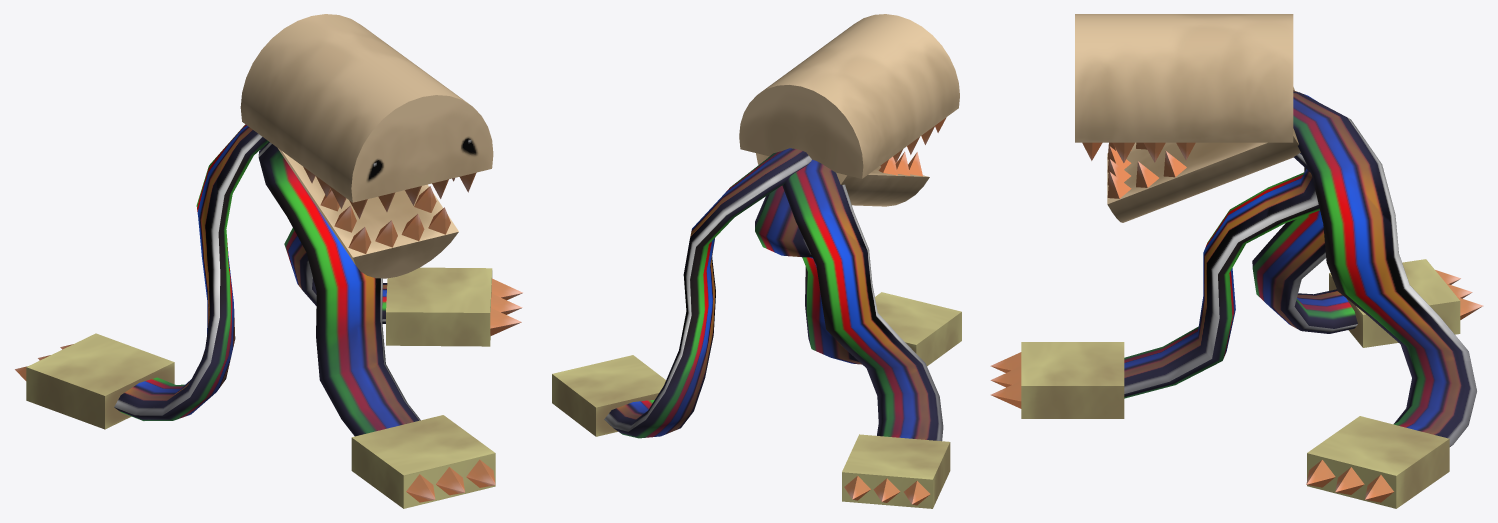
3 renders of one model, left to right at view 1: azimuth 30°, elevation 25°; view 2: azimuth 150°, elevation 25°; view 3: azimuth 270°, elevation 25°, orthographic. The views are drawn at different scales.
Visible parts, largest first — view 1: Cylinder, Plane, Plane.002, Cube.002, Cube, Cube.001, Cylinder.002, Plane.001, Cone.013, Cone.012, Cone.017; view 2: Cylinder, Plane.002, Plane.001, Cube.002, Cube.001, Plane, Cube, Cylinder.002; view 3: Cylinder, Plane.001, Plane, Cube, Cube.001, Cylinder.002, Plane.002, Cube.002.
Part boxes in pixels (x1,y1,x2,y2): Cylinder: (240,14,493,202); Plane: (258,142,420,436); Plane.002: (114,124,268,420); Cube.002: (26,333,174,429); Cube: (351,415,495,508); Cube.001: (386,267,492,346); Cylinder.002: (278,148,458,278); Plane.001: (284,228,387,323); Cone.013: (375,214,424,247); Cone.012: (348,207,450,253); Cone.017: (334,186,436,232); Cylinder: (739,14,959,178); Plane.002: (782,159,943,441); Plane.001: (604,148,811,438); Cube.002: (842,434,950,508); Cube.001: (552,355,665,436); Plane: (755,185,861,364); Cube: (875,292,961,366); Cylinder.002: (756,153,929,206); Cylinder: (1075,14,1293,142); Plane.001: (1293,91,1476,446); Plane: (1124,153,1319,398); Cube: (1021,342,1124,418); Cube.001: (1307,416,1449,508); Cylinder.002: (1107,87,1300,222); Plane.002: (1252,90,1357,333); Cube.002: (1329,259,1460,347).
Size of the model in its own units: 2.89 by 2.26 by 2.69.
Materials: 1 (1 with a texture image).
